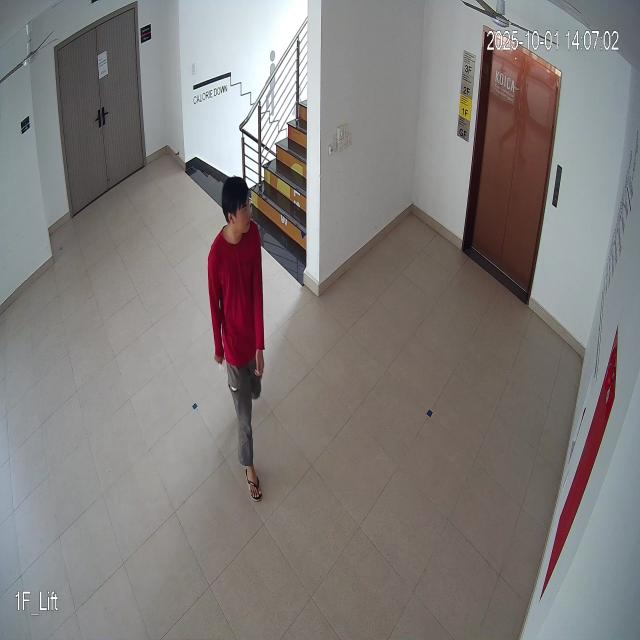face: (218, 173, 255, 240)
